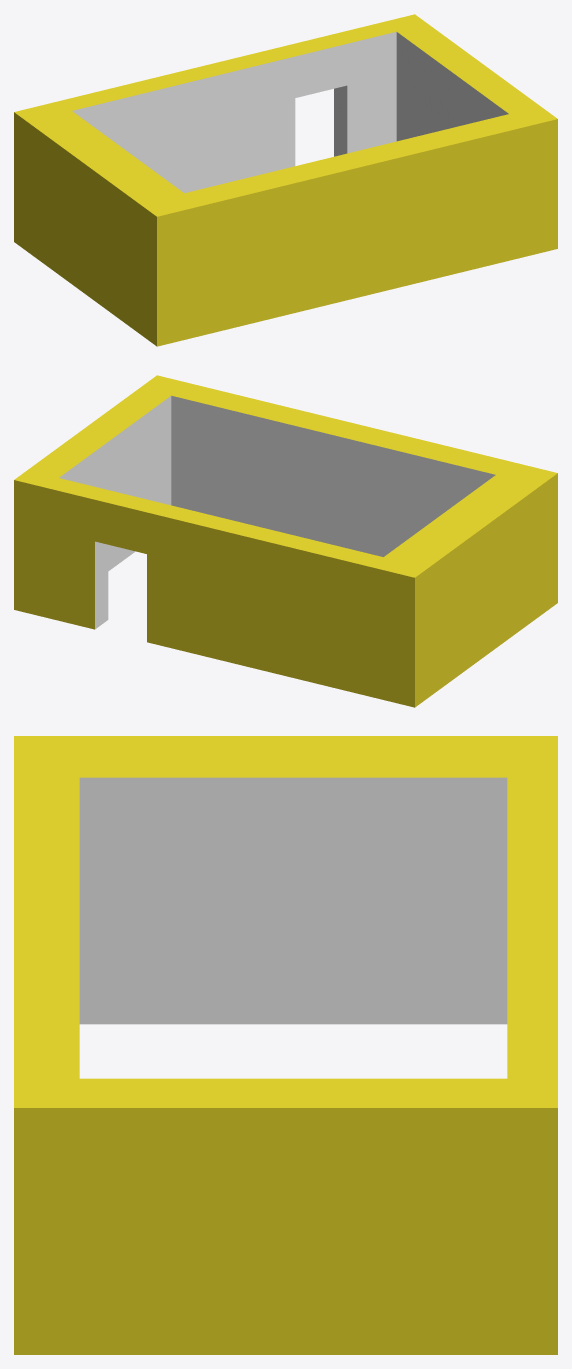
The model's file is testHouse.dae.
3 renders of one model, top to bottom at view 1: azimuth 30°, elevation 25°; view 2: azimuth 150°, elevation 25°; view 3: azimuth 270°, elevation 25°, orthographic. The views are drawn at different scales.
Visible parts, largest first — view 1: SketchUp (×2); view 2: SketchUp (×2); view 3: SketchUp (×2).
Part boxes in pixels (bbox=[...]): SketchUp (×2): bbox=[14, 14, 557, 346]; SketchUp (×2): bbox=[14, 375, 557, 707]; SketchUp (×2): bbox=[14, 736, 557, 1354].
Size of the model in its own units: 1641 by 1014 by 508.
